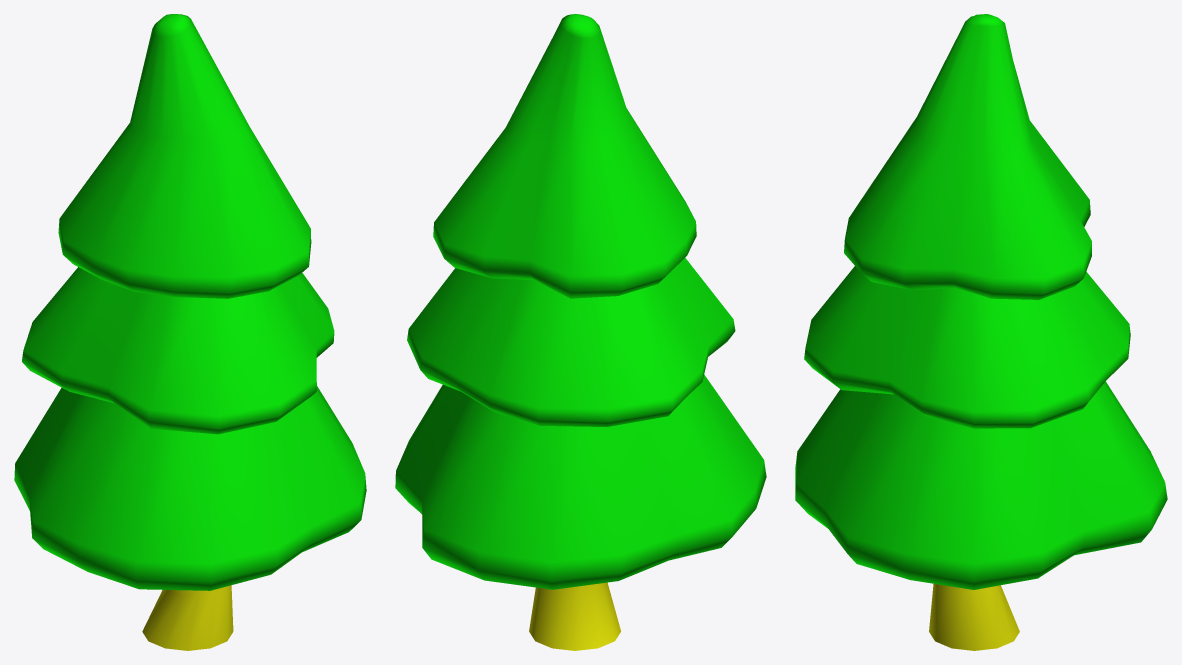
The model's file is SM_Tree_A.fbx.
3 renders of one model, left to right at view 1: azimuth 30°, elevation 25°; view 2: azimuth 150°, elevation 25°; view 3: azimuth 270°, elevation 25°, orthographic.
Visible parts, largest first — view 1: SM_Tree_A; view 2: SM_Tree_A; view 3: SM_Tree_A.
Part boxes in pixels (x1,y1,x2,y2): SM_Tree_A: [14, 14, 366, 650]; SM_Tree_A: [395, 14, 766, 650]; SM_Tree_A: [795, 14, 1167, 650].
Size of what is drawn, in the model's own units: 277 by 505 by 279.
